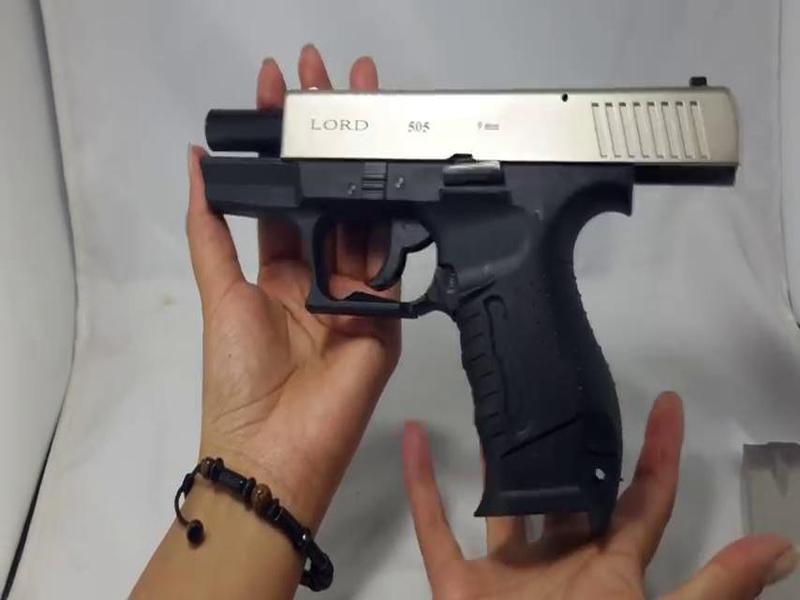Pistola: (167, 43, 751, 523)
